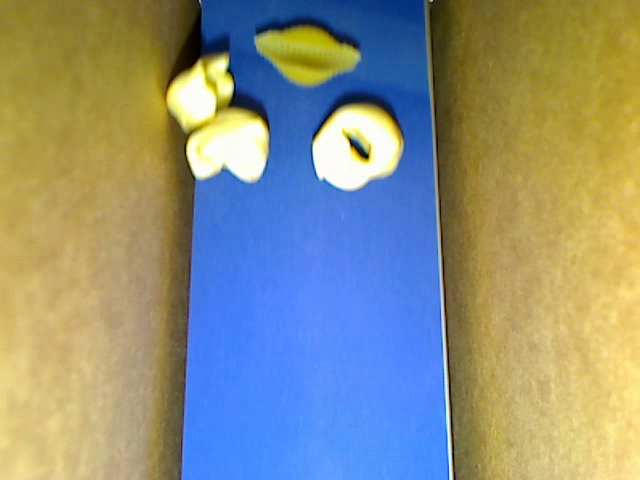shell: (254, 24, 362, 87)
tortellini: (313, 103, 405, 189)
